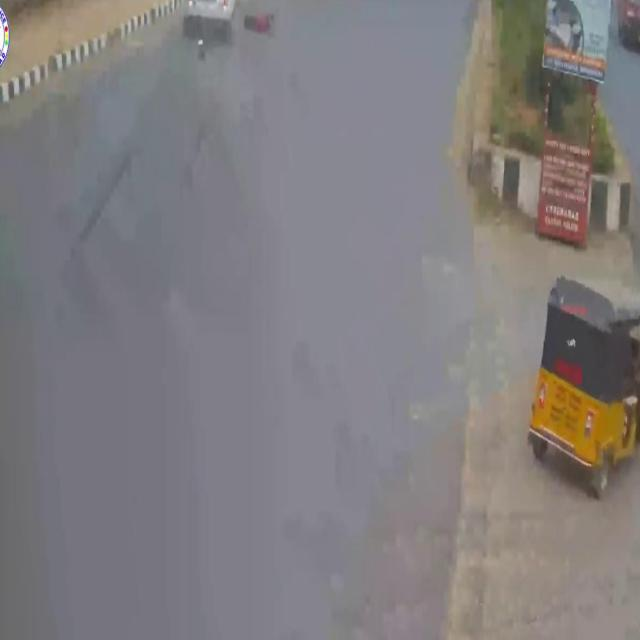accident: (173, 0, 277, 74)
